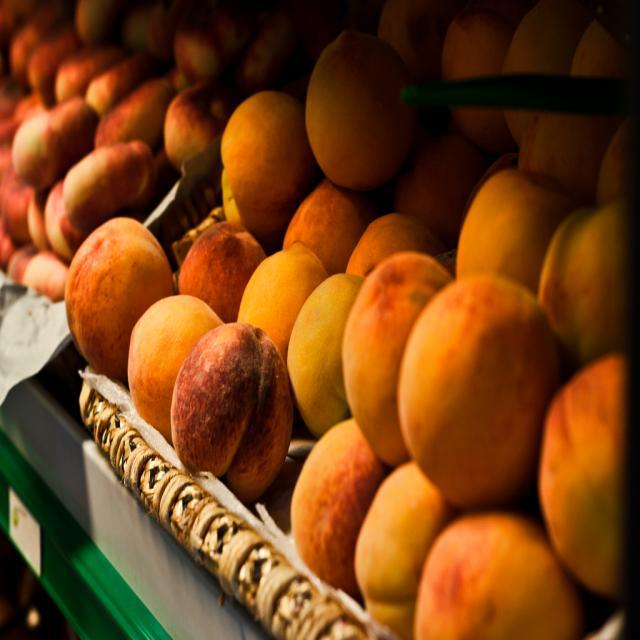Peach: (62, 0, 640, 639)
